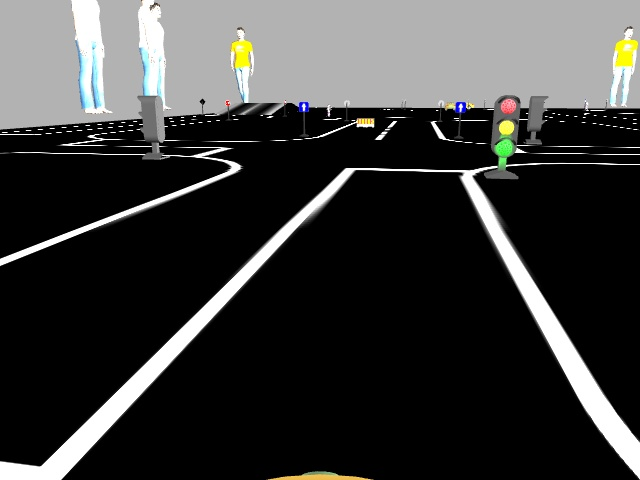ClosedRoadStand: (356, 118, 372, 127)
OneWay: (455, 100, 464, 112), (298, 101, 307, 111)
TrafficLight: (491, 95, 518, 156)
